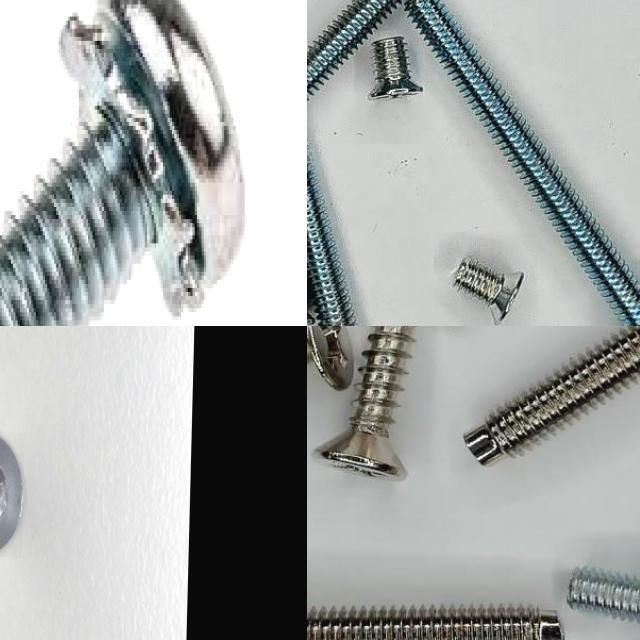Screw: (0, 0, 245, 326), (406, 0, 640, 326), (463, 326, 640, 465), (314, 326, 413, 479), (307, 0, 406, 97), (307, 149, 356, 326), (307, 607, 563, 640), (567, 569, 640, 623), (307, 326, 352, 390), (0, 438, 22, 548), (454, 260, 505, 306), (372, 38, 410, 81)
